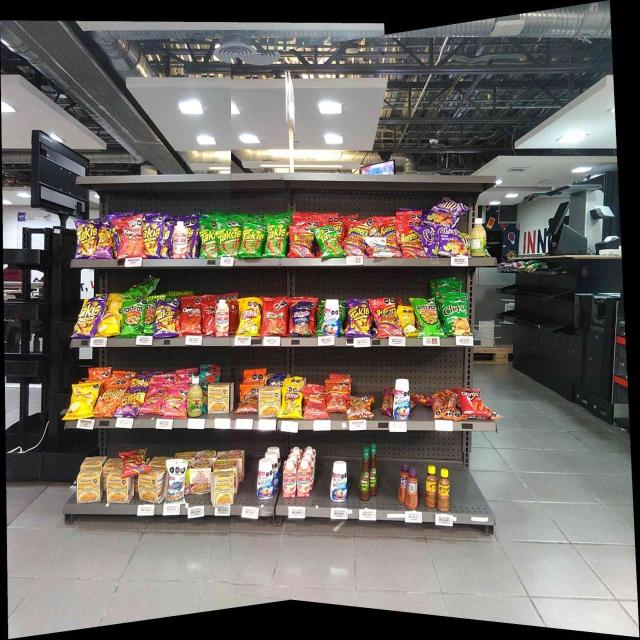bitzEnchilado90: (327, 384, 346, 411), (306, 393, 324, 419)
bitzEnchilado95: (432, 389, 459, 420)
bitzHabanero: (382, 386, 392, 416), (411, 391, 431, 404)
bokadosCacahuates: (292, 302, 311, 336)
botaneraChilito: (438, 468, 450, 512), (426, 464, 436, 508)
cheetosFlaminHot: (122, 391, 144, 409)
cheetosOriginal: (98, 391, 122, 408)
chipsFuego: (436, 200, 459, 226), (439, 228, 460, 254), (422, 226, 437, 254)
chipsJalapeno: (443, 299, 470, 334)
churrumais: (165, 389, 186, 416), (144, 392, 164, 413)
delPrimoSalsa: (187, 376, 203, 417), (471, 218, 486, 256)
doritosNacho: (122, 224, 143, 258), (461, 389, 485, 417), (182, 301, 202, 333), (204, 301, 215, 335)
fritosLimon: (240, 303, 260, 336), (282, 388, 302, 417)
leoCacahuates: (166, 460, 186, 504)
leoMix: (238, 384, 258, 413), (348, 396, 370, 416)
maruchanPollo: (76, 468, 101, 502), (210, 471, 234, 505), (208, 384, 233, 414), (259, 386, 281, 418), (140, 472, 162, 504), (106, 476, 130, 504)
maruchanRes: (189, 460, 210, 493)
nestleCarnation: (173, 221, 187, 259), (216, 300, 230, 338), (297, 459, 311, 497), (282, 460, 296, 498)
nestleLechera: (329, 460, 348, 502), (322, 299, 341, 337), (257, 459, 274, 500), (394, 379, 410, 420)
rancheritos: (264, 303, 286, 335)
runners: (373, 301, 398, 333), (398, 223, 419, 256), (122, 448, 148, 471), (292, 232, 312, 257), (348, 226, 363, 255), (381, 222, 395, 235)
sabritasOriginal: (71, 386, 92, 417), (101, 311, 119, 333)
salsaBufalo: (358, 447, 372, 501)
semillasCalabaza: (398, 306, 415, 336)
tajinDulce: (406, 468, 419, 510)
takisFuego: (348, 300, 371, 336), (78, 300, 100, 336), (142, 221, 162, 255), (76, 221, 97, 253), (155, 305, 176, 336), (163, 224, 170, 257), (188, 225, 195, 248)
takisOriginal: (218, 224, 241, 257), (242, 226, 265, 255), (267, 225, 286, 256), (200, 223, 217, 257), (318, 228, 337, 254)
tostitos: (416, 299, 438, 335), (122, 302, 143, 334), (144, 300, 154, 334)
